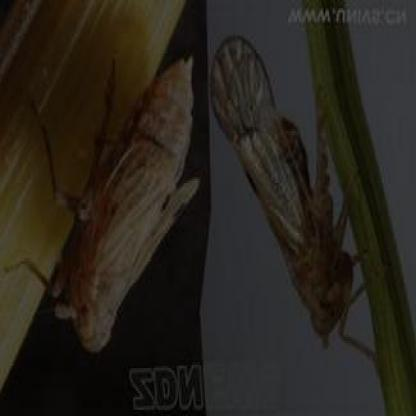brown-planthopper: (35, 58, 204, 354), (212, 32, 361, 352)
